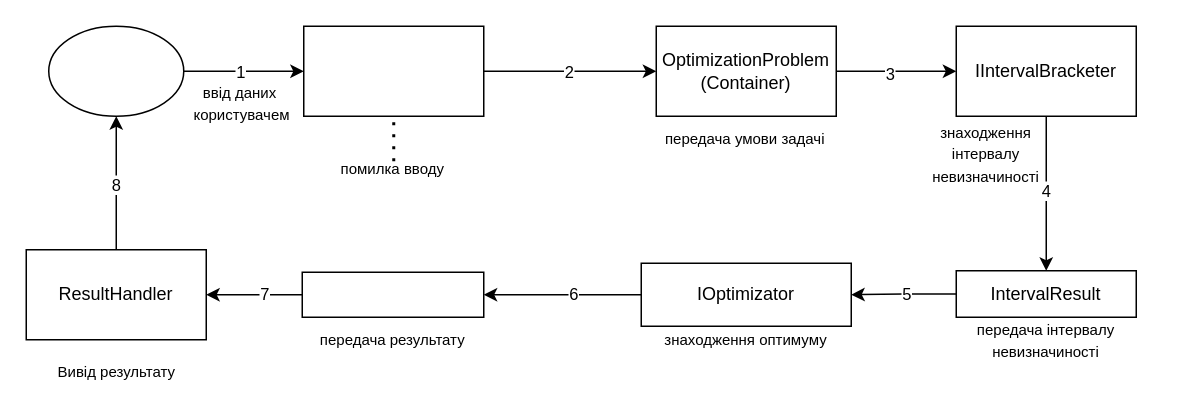
This 1193x420 diagram has some shape labels left out. The shapes that lost their labels are listed below. From the top down, each one's box as (x1, y1, x2, y2) in pixels, then its label:
(47, 25, 184, 116): User
(302, 25, 484, 116): InputHandler
(301, 271, 484, 317): OptimizationResult
